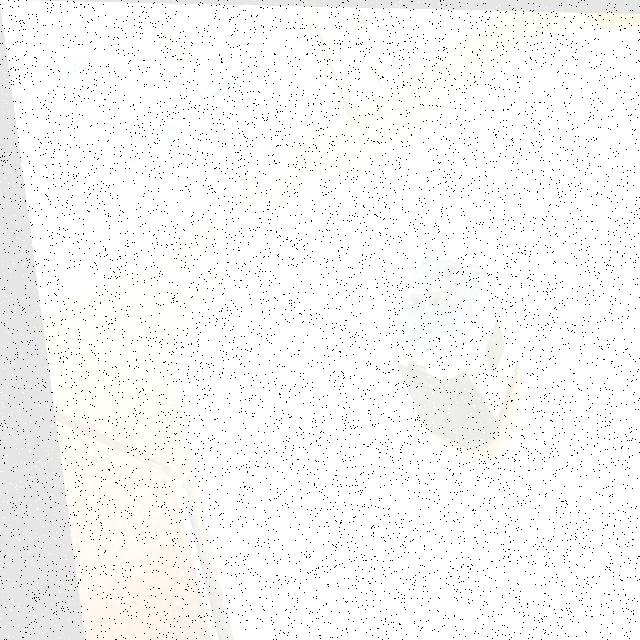adapter: (366, 250, 518, 449)
